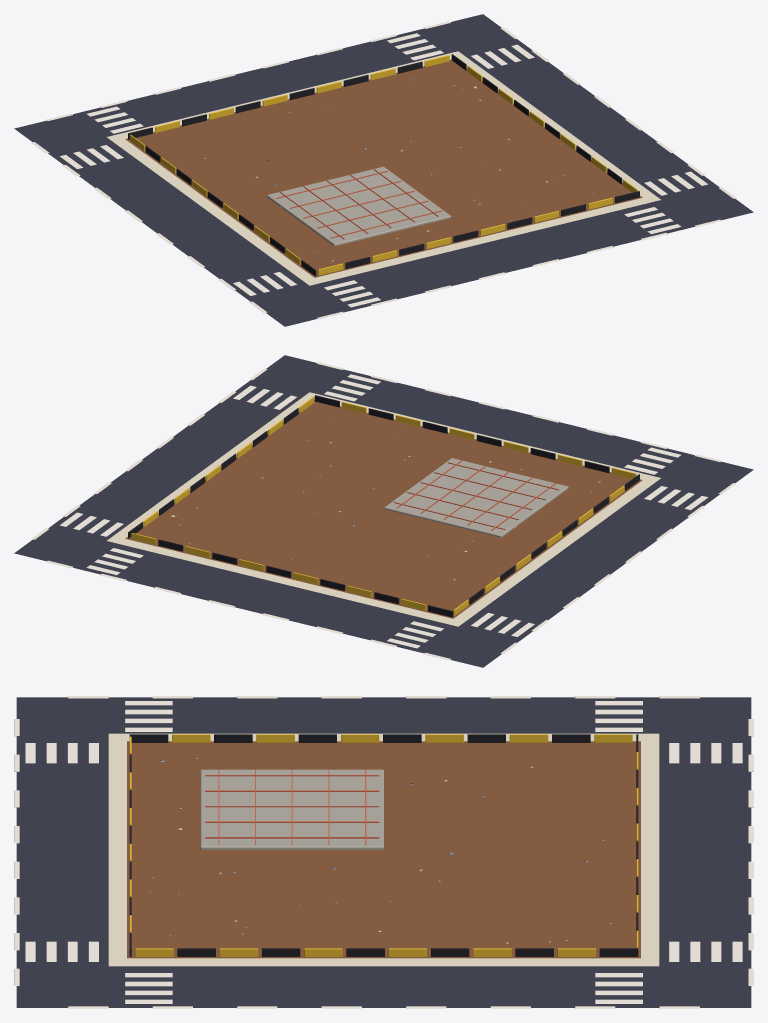
The model's file is tile_construction.glb.
The picture shows the model from 3 angles, top to bottom: view 1: azimuth 30°, elevation 25°; view 2: azimuth 150°, elevation 25°; view 3: azimuth 270°, elevation 25°; orthographic projection. The views are drawn at different scales.
Parts seen in each view (by area): view 1: tile_construction; view 2: tile_construction; view 3: tile_construction.
Part boxes in pixels (x1,y1,x2,y2): tile_construction: (14, 14, 753, 326); tile_construction: (14, 355, 753, 667); tile_construction: (14, 696, 753, 1008).
Size of the model in its own units: 40.3 by 0.6691 by 40.3.
Materials: 1 (1 with a texture image).
